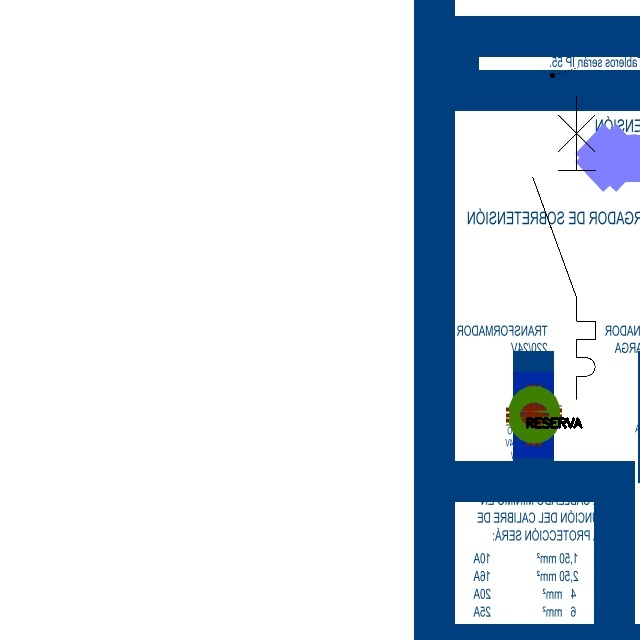interruptor_termomagnetico: (525, 88, 603, 406)
